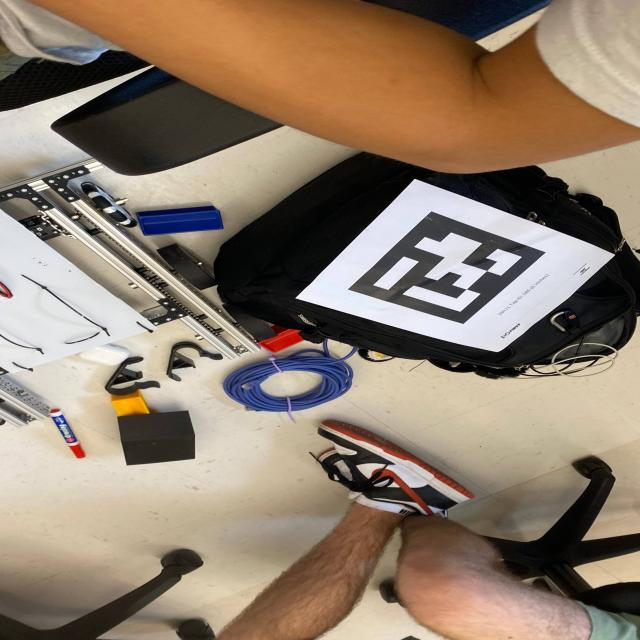blue-specimen: (136, 206, 223, 236)
red-specimen: (259, 326, 305, 354)
yellow-specimen: (111, 390, 154, 417)
